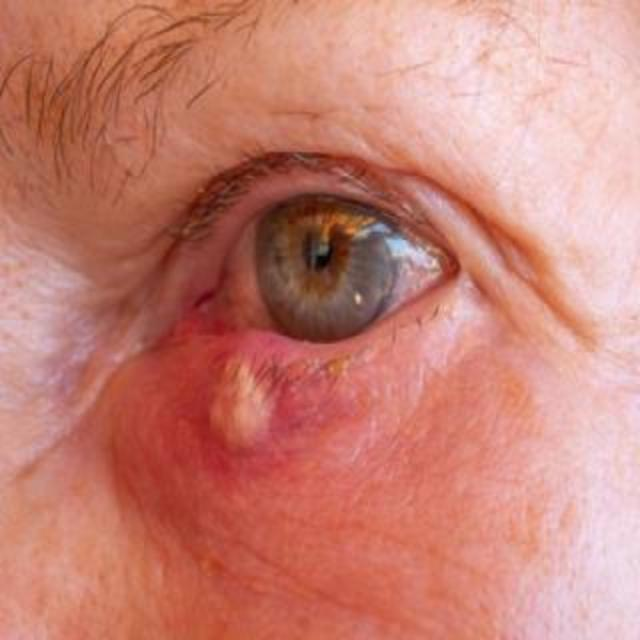Stye: (150, 296, 355, 486)
